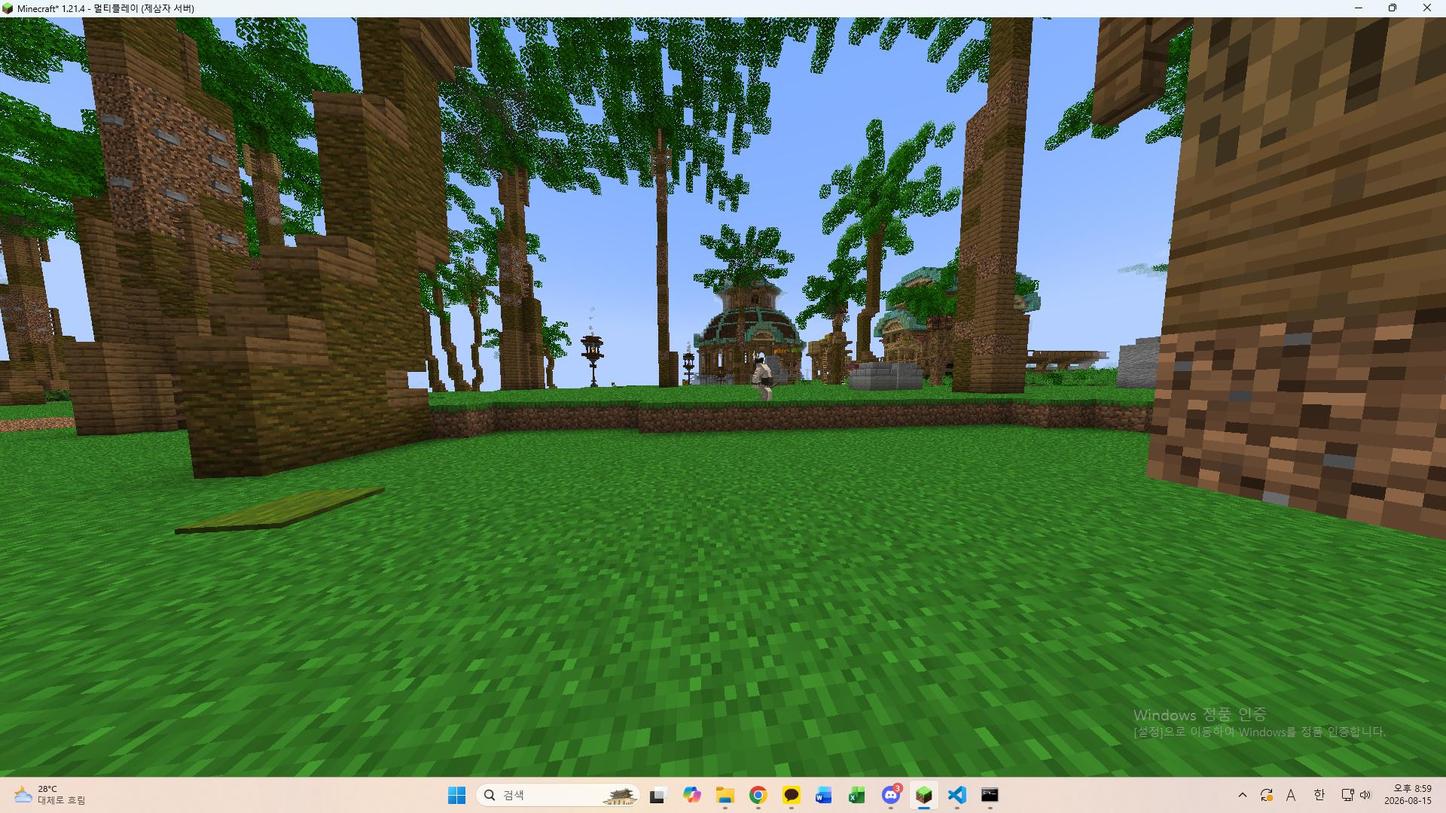bow_indian: (741, 352, 792, 410)
